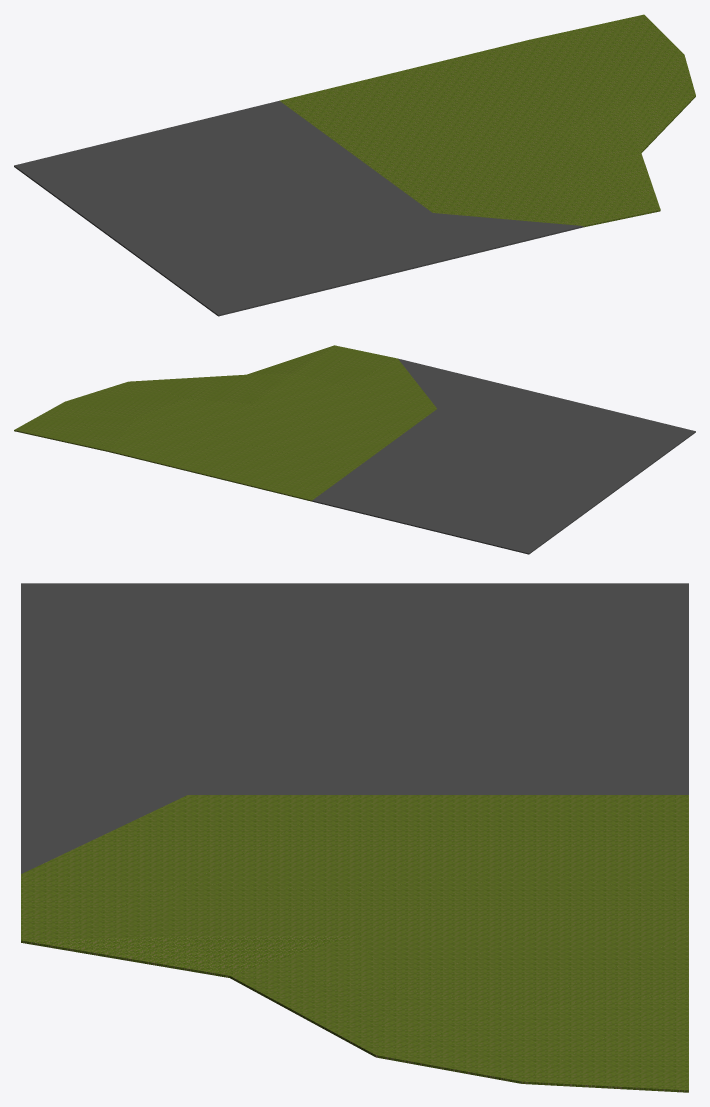
The picture shows the model from 3 angles, top to bottom: view 1: azimuth 30°, elevation 25°; view 2: azimuth 150°, elevation 25°; view 3: azimuth 270°, elevation 25°; orthographic projection. The views are drawn at different scales.
Visible parts, largest first — view 1: d-2_base_plate-col; view 2: d-2_base_plate-col; view 3: d-2_base_plate-col.
Part boxes in pixels (bbox=[...]): d-2_base_plate-col: bbox=[14, 14, 695, 316]; d-2_base_plate-col: bbox=[14, 345, 695, 554]; d-2_base_plate-col: bbox=[21, 583, 688, 1092].
Bounding box in the file's own units: 456 × 2.92 × 256.
Materials: 2 (1 with a texture image).
